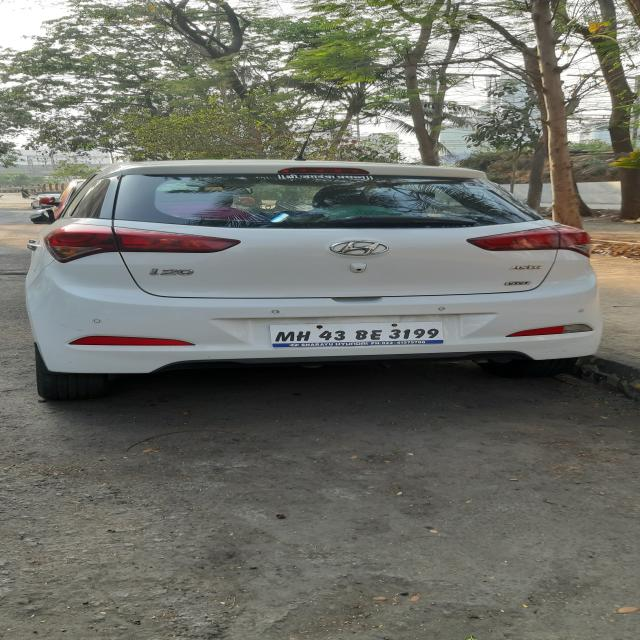Number-Plate: (271, 324, 441, 343)
